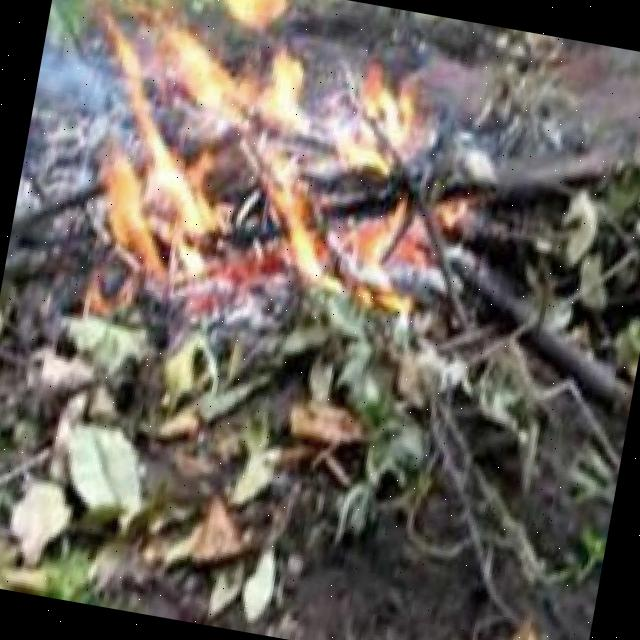fire: (51, 17, 318, 289), (286, 183, 426, 314), (320, 59, 412, 208)
